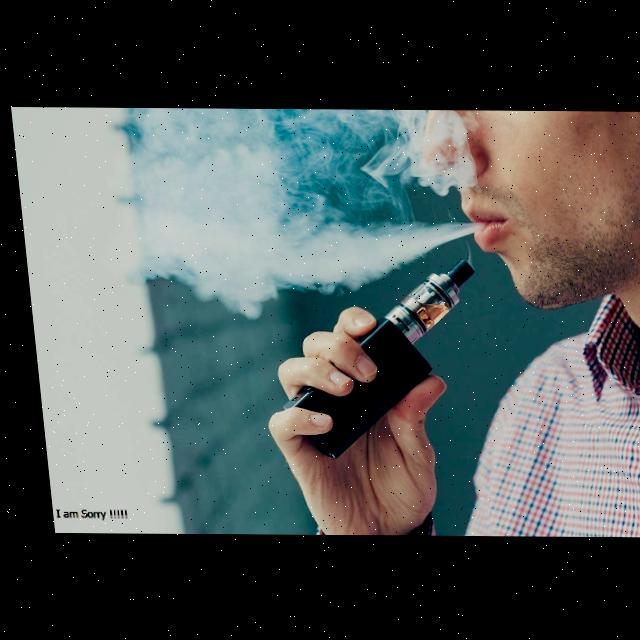vape: (259, 256, 485, 460)
